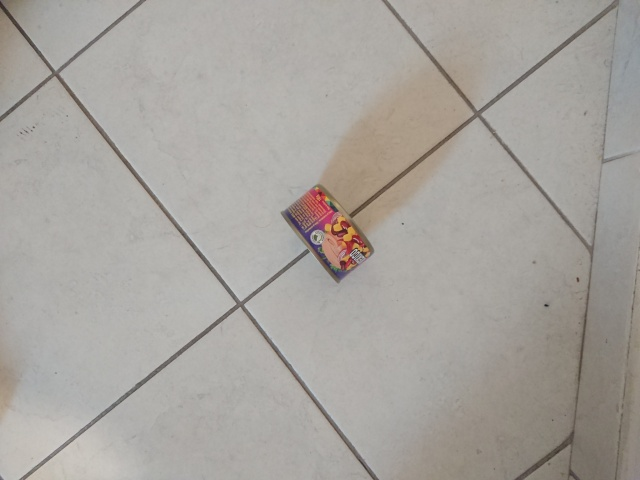Giana Tuna Salad Mexico 185g: (279, 181, 376, 287)
